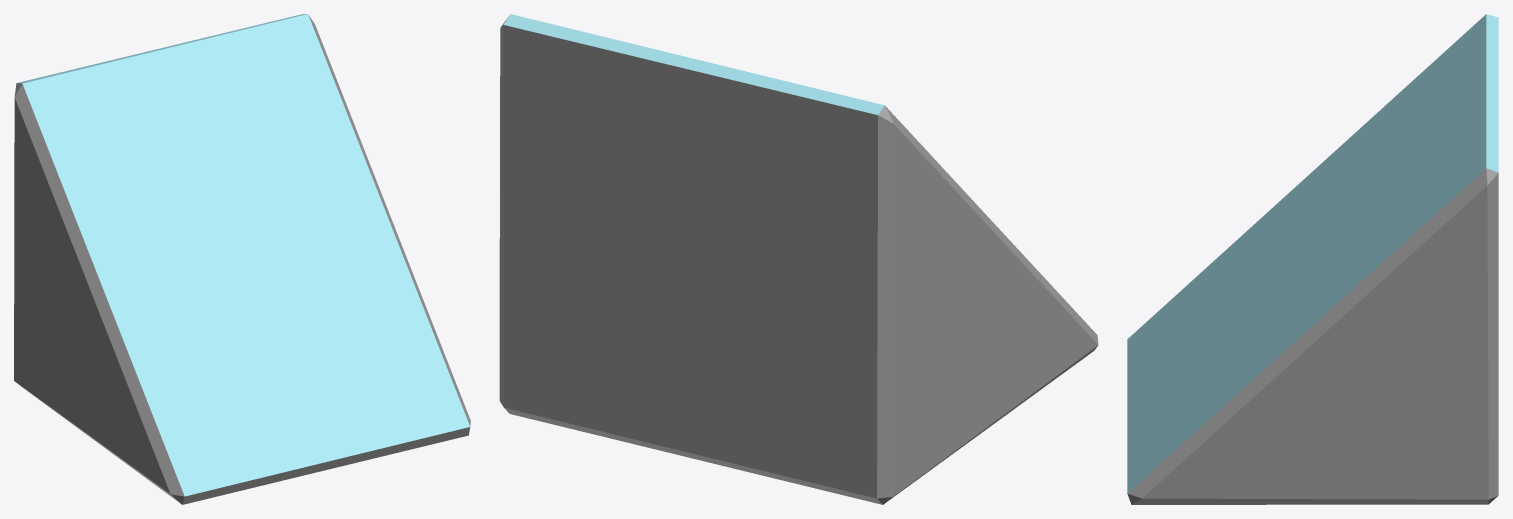
Rendered from 1_2Block.fbx.
3 renders of one model, left to right at view 1: azimuth 30°, elevation 25°; view 2: azimuth 150°, elevation 25°; view 3: azimuth 270°, elevation 25°, orthographic. The views are drawn at different scales.
Visible parts, largest first — view 1: pCube1; view 2: pCube1; view 3: pCube1.
Boxes of the visible parts, x1=… form: pCube1: x1=14, y1=14, x2=470, y2=504; pCube1: x1=499, y1=14, x2=1098, y2=504; pCube1: x1=1127, y1=14, x2=1498, y2=504.
Size of the model in its own units: 100 by 96.79 by 96.79.
2 materials, 1 textured.
